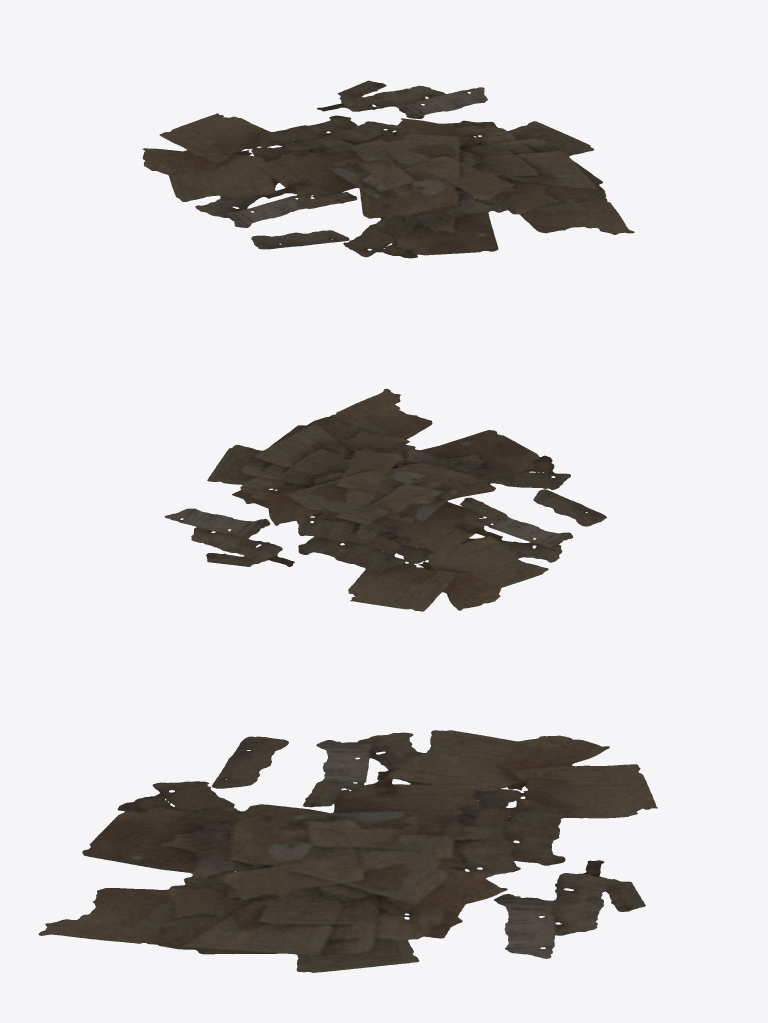
The model's file is trash_2.obj.
3 views of the same model, one above another, from view 1: azimuth 30°, elevation 25°; view 2: azimuth 150°, elevation 25°; view 3: azimuth 270°, elevation 25° (orthographic). The views are drawn at different scales.
Visible parts, largest first — view 1: trash_2; view 2: trash_2; view 3: trash_2.
Boxes of the visible parts, box(x1,y1,x2,y2) form: trash_2: box(142, 80, 634, 258); trash_2: box(164, 388, 606, 611); trash_2: box(38, 730, 657, 972).
Bounding box in the file's own units: 1 × 0.0147 × 1.
